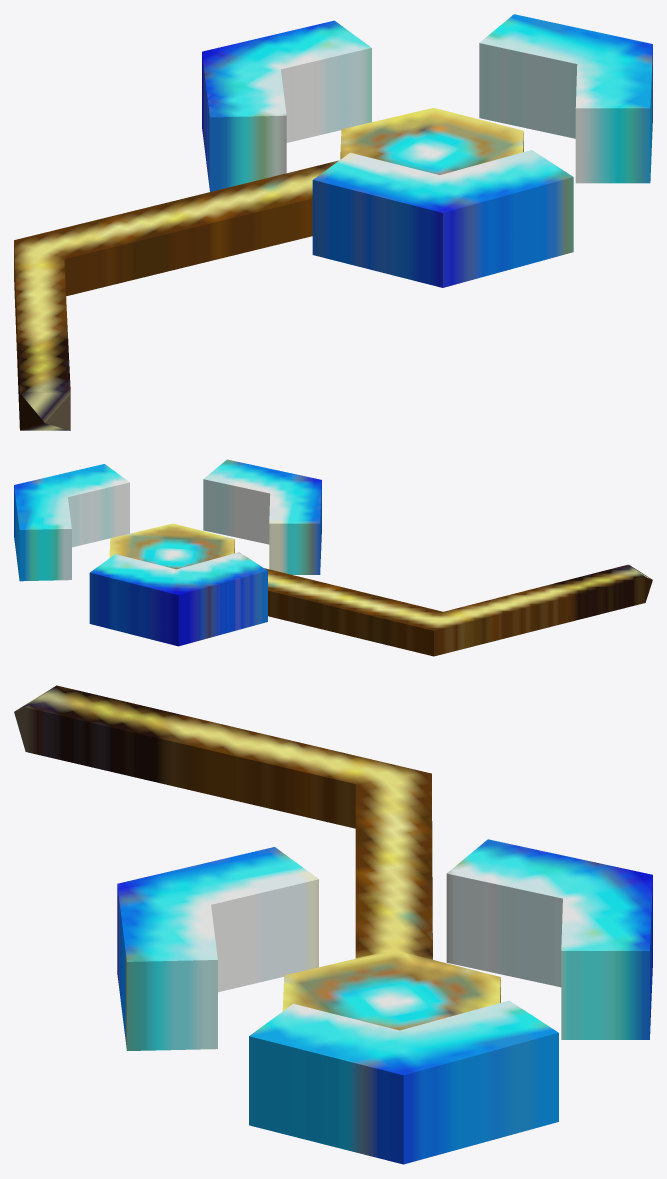
The picture shows the model from 3 angles, top to bottom: view 1: azimuth 30°, elevation 25°; view 2: azimuth 150°, elevation 25°; view 3: azimuth 270°, elevation 25°; orthographic projection. The views are drawn at different scales.
Parts seen in each view (by area): view 1: aw221; view 2: aw221; view 3: aw221.
Boxes of the visible parts, box(x1,y1,x2,y2) form: aw221: box(14, 14, 652, 430); aw221: box(14, 459, 652, 656); aw221: box(14, 685, 652, 1164).
Size of the model in its own units: 16.24 by 1.78 by 9.71.
1 material, 1 textured.
